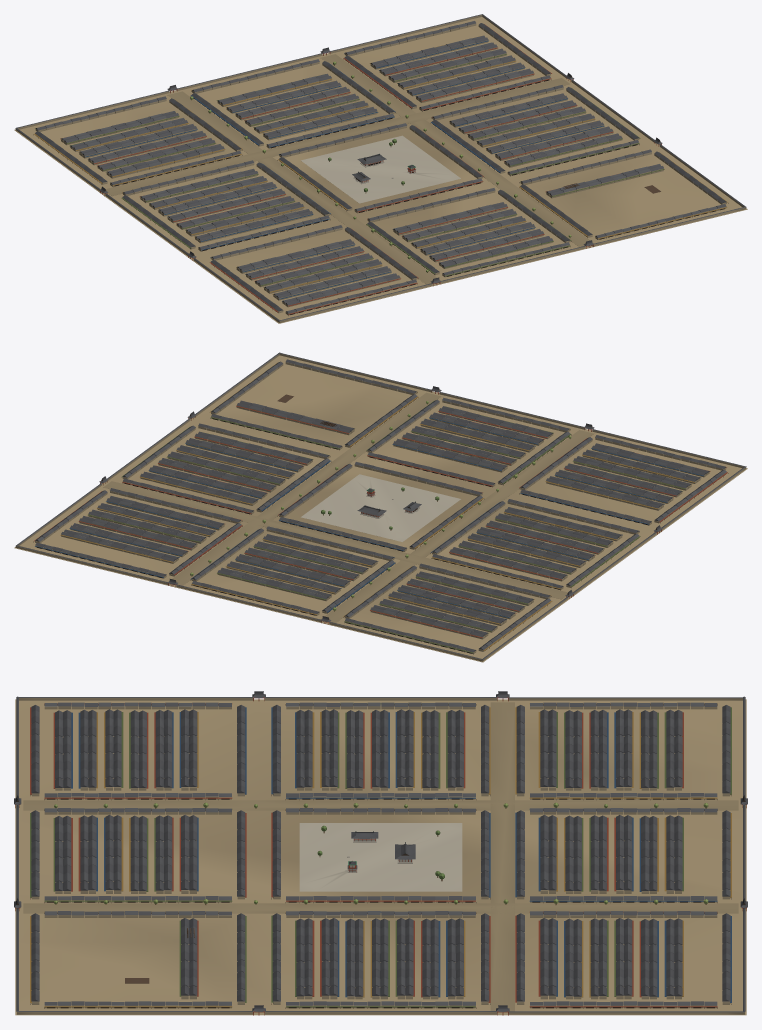
Rendered from west-market.glb.
The picture shows the model from 3 angles, top to bottom: view 1: azimuth 30°, elevation 25°; view 2: azimuth 150°, elevation 25°; view 3: azimuth 270°, elevation 25°; orthographic projection. The views are drawn at different scales.
Parts seen in each view (by area): view 1: p1_halls, p0_grounds, p2_trees; view 2: p1_halls, p0_grounds, p2_trees; view 3: p0_grounds, p1_halls, p2_trees.
Part boxes in pixels (x1=…): p1_halls: x1=33, y1=21, x2=728, y2=315; p0_grounds: x1=14, y1=14, x2=747, y2=323; p2_trees: x1=190, y1=61, x2=571, y2=272; p1_halls: x1=33, y1=359, x2=728, y2=654; p0_grounds: x1=14, y1=352, x2=747, y2=662; p2_trees: x1=190, y1=401, x2=571, y2=611; p0_grounds: x1=15, y1=696, x2=746, y2=1015; p1_halls: x1=14, y1=691, x2=747, y2=1015; p2_trees: x1=54, y1=802, x2=708, y2=904.
Size of the model in its own units: 923 by 14.84 by 903.
